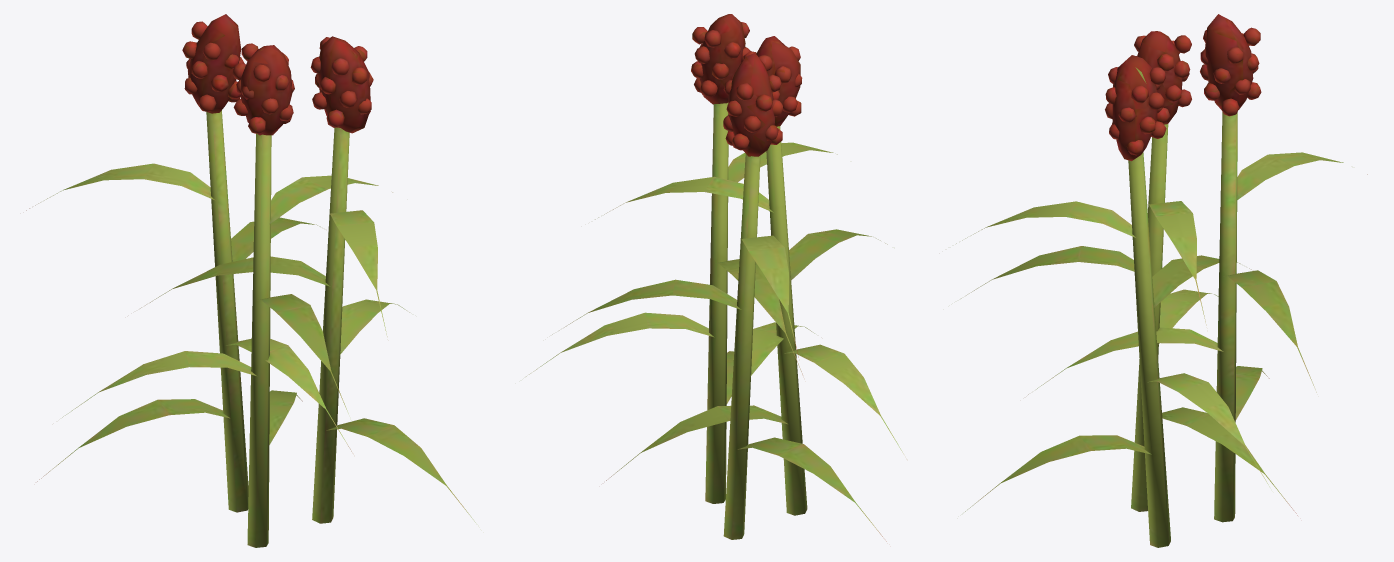
File: crop_sorghum.glb
3 views of the same model, side by side, from view 1: azimuth 30°, elevation 25°; view 2: azimuth 150°, elevation 25°; view 3: azimuth 270°, elevation 25° (orthographic). The views are drawn at different scales.
Visible parts, largest first — view 1: crop_sorghum, fruit; view 2: crop_sorghum, fruit; view 3: crop_sorghum, fruit.
Boxes of the visible parts, x1,y1,x2,y2 form: crop_sorghum: [26, 110, 475, 547]; fruit: [182, 14, 373, 135]; crop_sorghum: [526, 102, 903, 541]; fruit: [691, 14, 802, 156]; crop_sorghum: [956, 112, 1367, 547]; fruit: [1105, 14, 1261, 161].
Bounding box in the file's own units: 0.4431 × 0.5443 × 0.4394.
Materials: 1 (1 with a texture image).
